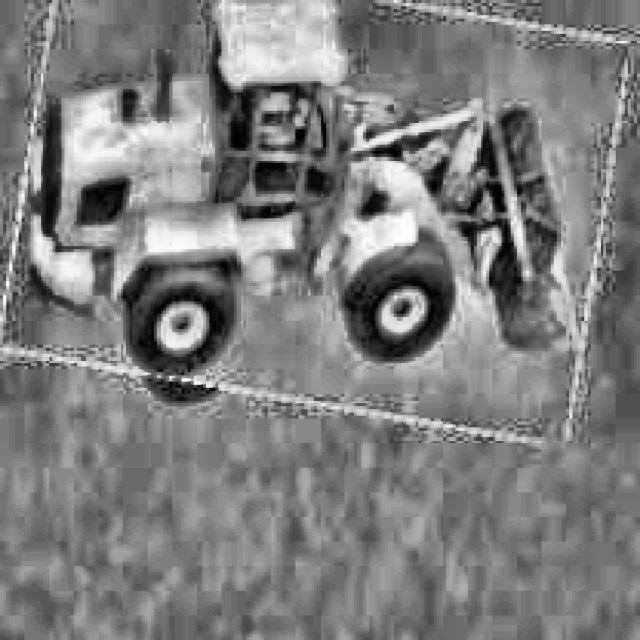buldozerpayloadergrader: (19, 0, 588, 409)
